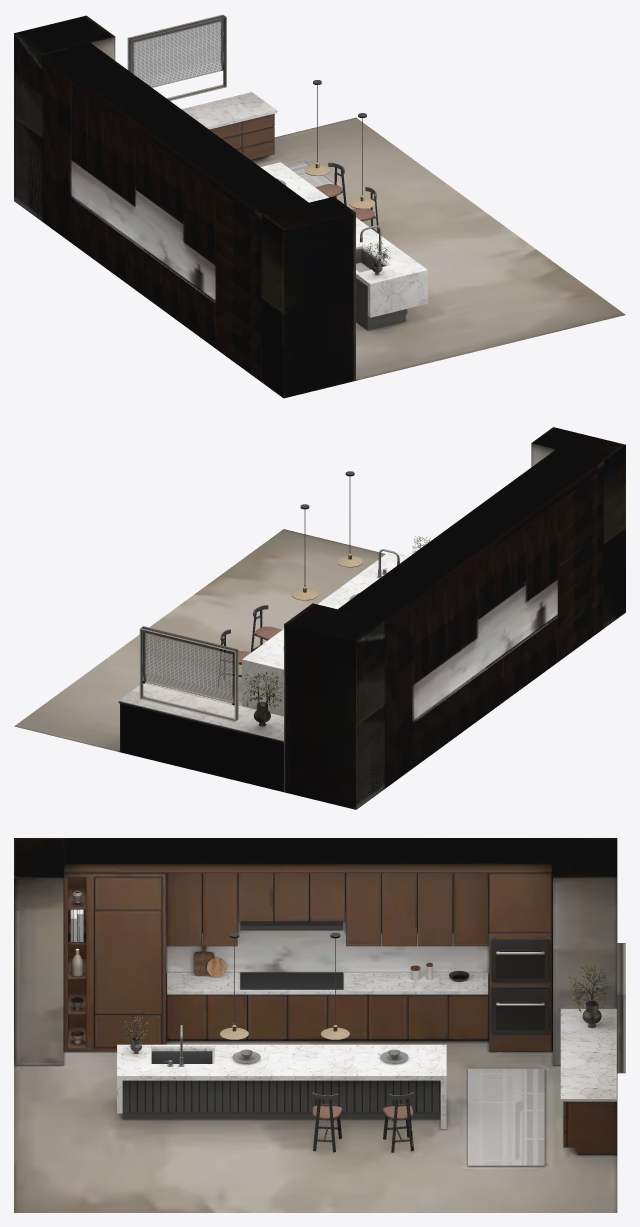
Rendered from kitchen-island-lite.glb.
3 views of the same model, one above another, from view 1: azimuth 30°, elevation 25°; view 2: azimuth 150°, elevation 25°; view 3: azimuth 270°, elevation 25° (orthographic). The views are drawn at different scales.
Visible parts, largest first — view 1: house_house1_0, wood_wood_0, house_house2_0, table_table_0, curtain_curtain2_0, bar_bar1_0, bar_bar2_0; view 2: house_house1_0, wood_wood_0, house_house2_0, table_table_0, curtain_curtain2_0; view 3: house_house1_0, wood_wood_0, table_table_0, house_house2_0, bar_bar1_0, carpet_carpet_0, cooking bench_cooking bench_0, oven_oven2_0, oven_oven3_0, seat_seat2_0, bar_bar2_0, light_light2_0 (+4 smaller).
Boxes of the visible parts, bbox=[...] form: house_house1_0: bbox=[14, 14, 625, 398]; wood_wood_0: bbox=[43, 43, 308, 380]; house_house2_0: bbox=[14, 33, 282, 397]; table_table_0: bbox=[71, 92, 428, 317]; curtain_curtain2_0: bbox=[131, 18, 224, 87]; bar_bar1_0: bbox=[356, 249, 407, 330]; bar_bar2_0: bbox=[356, 225, 387, 272]; house_house1_0: bbox=[14, 427, 625, 809]; wood_wood_0: bbox=[120, 449, 603, 791]; house_house2_0: bbox=[356, 444, 625, 808]; table_table_0: bbox=[118, 552, 557, 743]; curtain_curtain2_0: bbox=[142, 630, 234, 703]; house_house1_0: bbox=[14, 838, 625, 1212]; wood_wood_0: bbox=[64, 838, 616, 1154]; table_table_0: bbox=[117, 972, 616, 1129]; house_house2_0: bbox=[14, 838, 617, 1026]; bar_bar1_0: bbox=[122, 1051, 440, 1119]; carpet_carpet_0: bbox=[467, 1068, 544, 1166]; cooking bench_cooking bench_0: bbox=[240, 908, 343, 989]; oven_oven2_0: bbox=[492, 940, 548, 1029]; oven_oven3_0: bbox=[492, 941, 548, 1033]; seat_seat2_0: bbox=[312, 1092, 414, 1152]; bar_bar2_0: bbox=[151, 1025, 212, 1066]; light_light2_0: bbox=[220, 1023, 349, 1040].
Bounding box in the file's own units: 6.39 × 3 × 8.84.
Materials: 28 (28 with a texture image).
